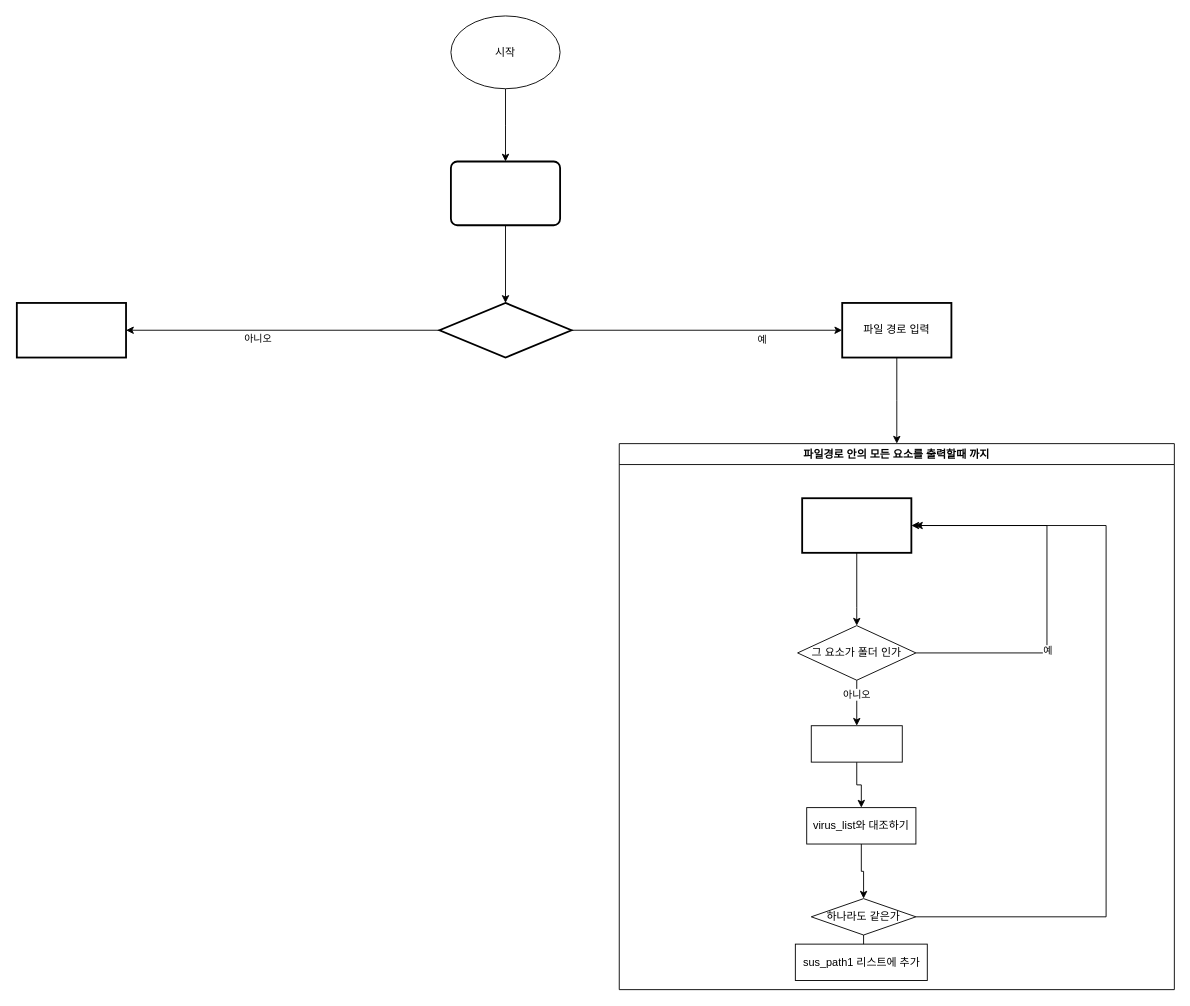
Some shapes in this 1190 by 1006 pixel diagram are drawn without their labels. The shapes that lost their labels are listed below. From the top down, each one's centre as x and y in pixels, then its label:
[505,193]: 검사경로 묻기
[505,330]: 파일경로 직접 입력을 선택
[856,525]: 파일경로 안의 요소 출력
[856,743]: 파일의 sha256값을 구하기
